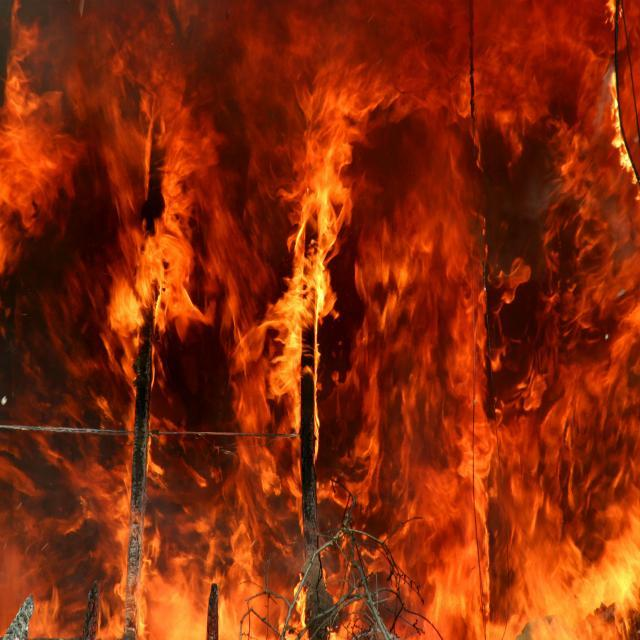Fire: (344, 0, 640, 640), (95, 8, 354, 444), (316, 225, 478, 638), (474, 240, 638, 640), (616, 0, 640, 200)
Smoke: (8, 106, 304, 632)
